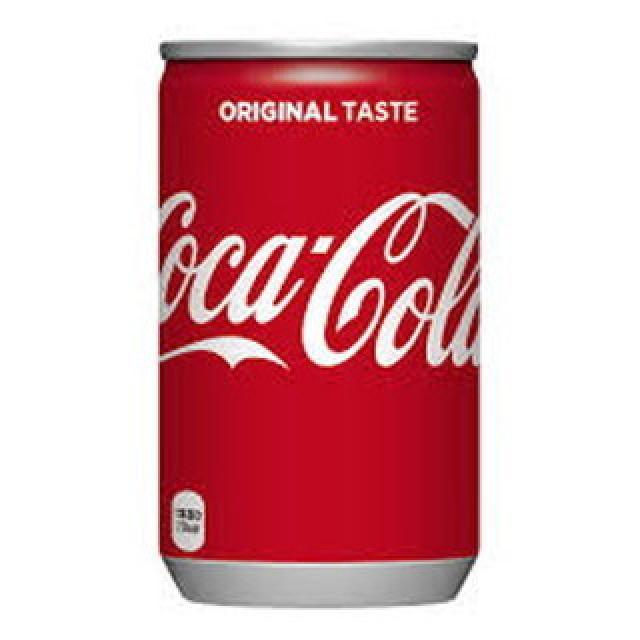can: (157, 38, 482, 610)
